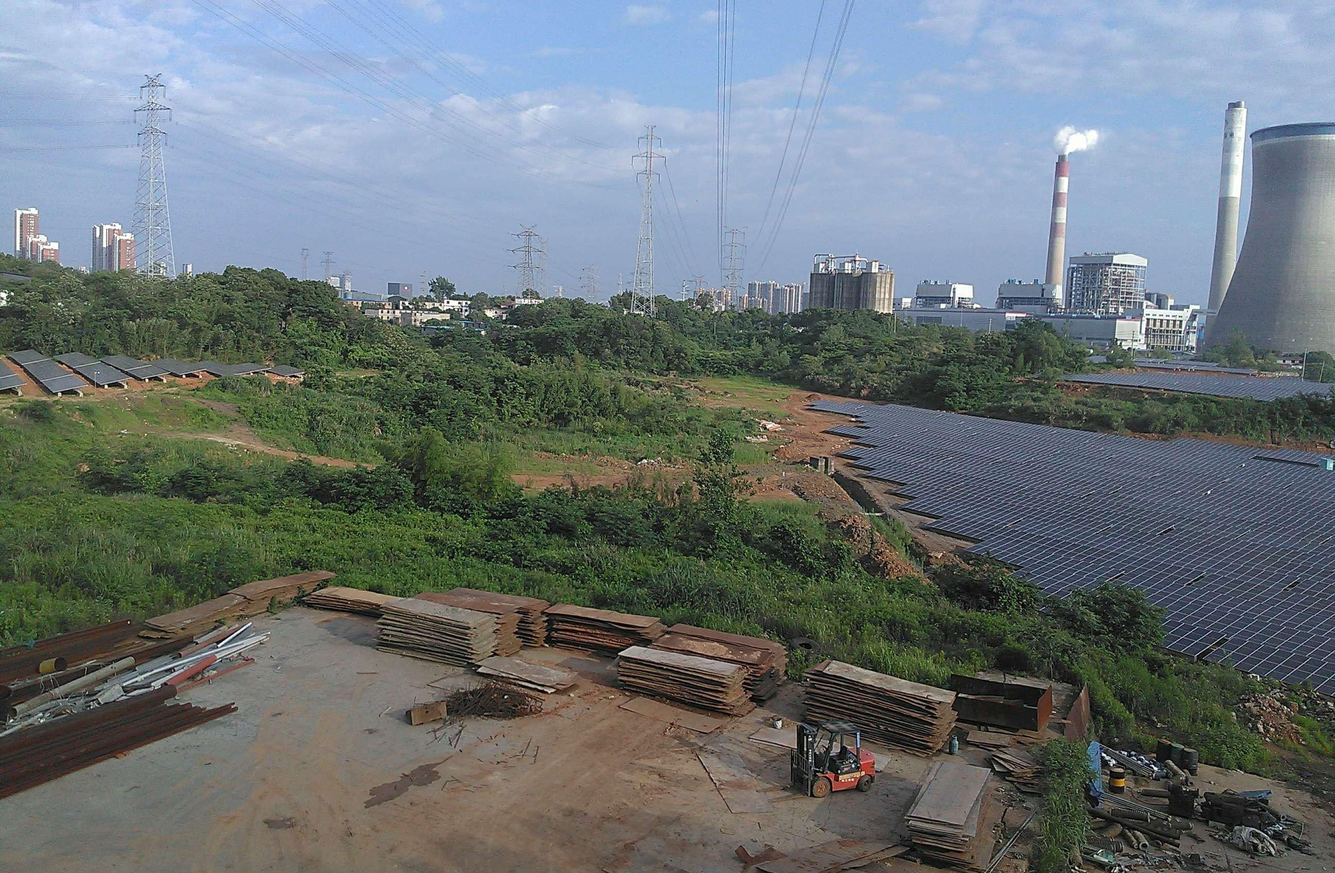工厂排烟: (1051, 124, 1102, 155)
